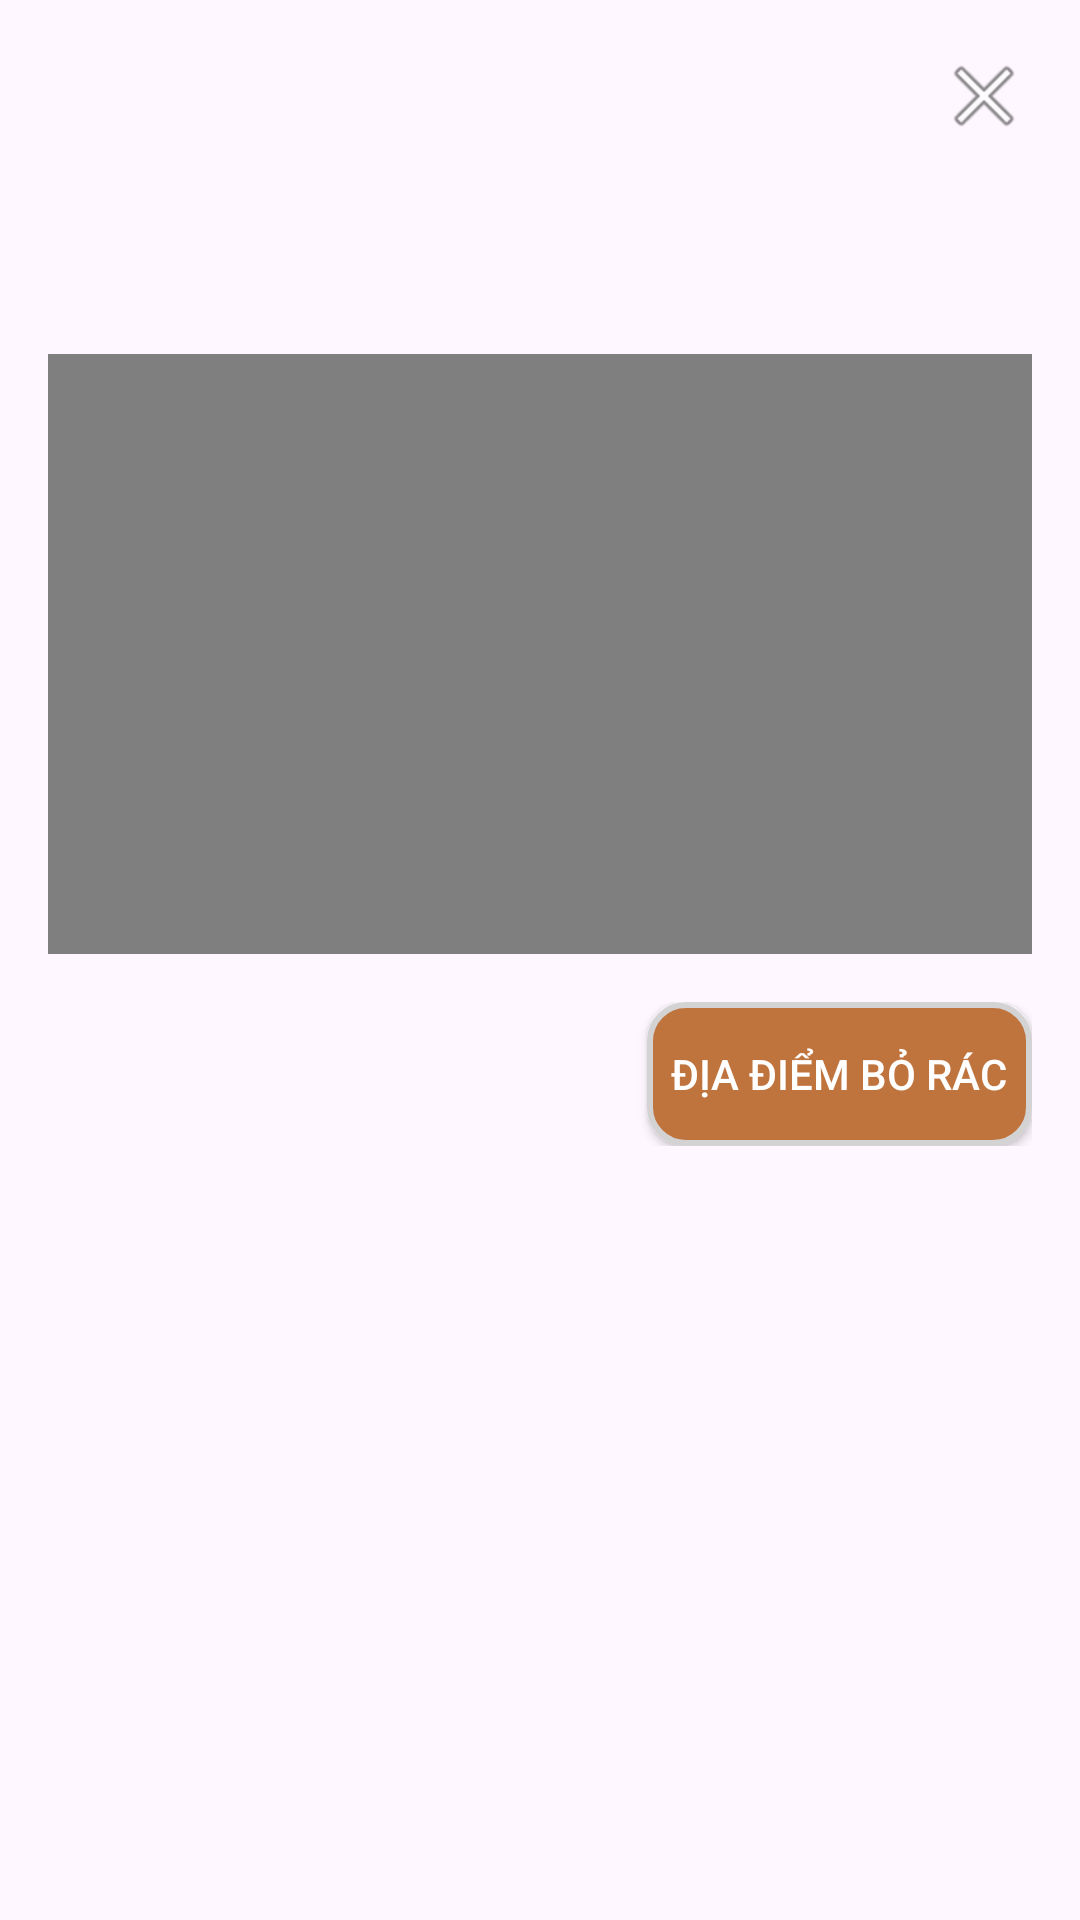

Locate icon controls on the screen. Image size 1080 x 1920, boxes as (x1, y1, x2, y2).
close clear cancel: (954, 66, 1014, 126)
